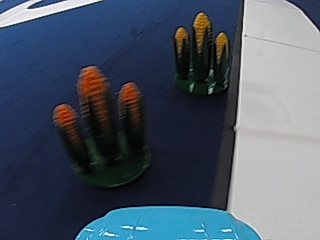corn: (53, 64, 150, 190), (169, 11, 232, 96)
